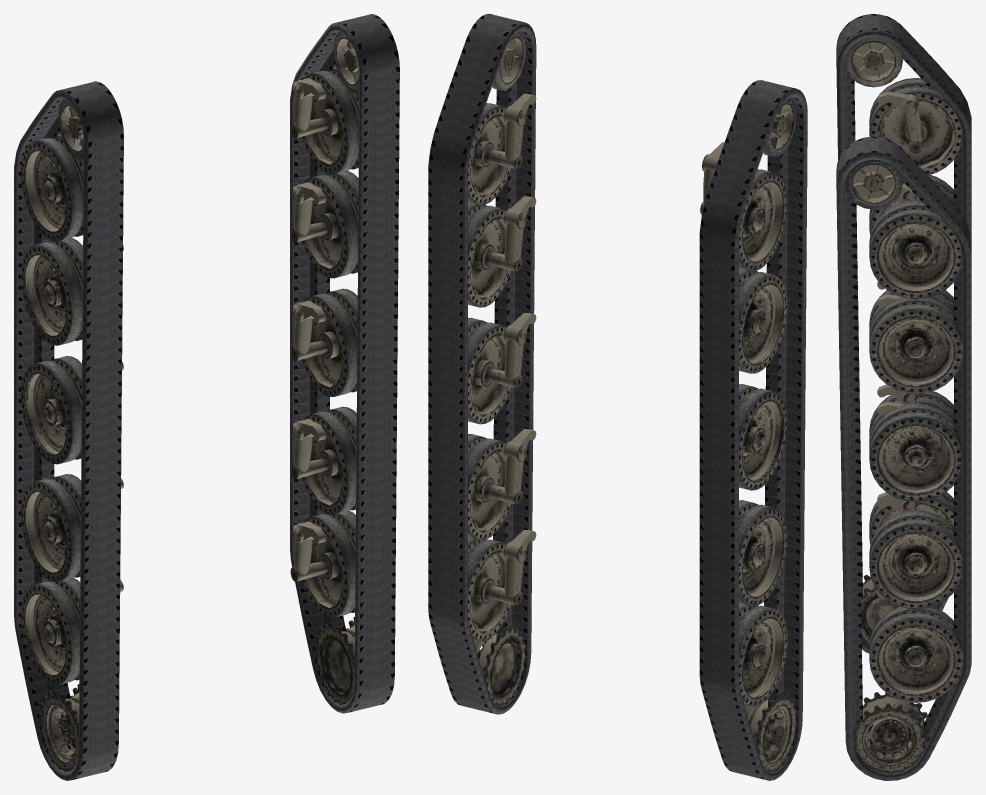
Rendered from Chassis.glb.
The picture shows the model from 3 angles, left to right: view 1: azimuth 30°, elevation 25°; view 2: azimuth 150°, elevation 25°; view 3: azimuth 270°, elevation 25°; orthographic projection. The views are drawn at different scales.
Parts seen in each view (by area): view 1: set_0_group_0, set_1_group_0, set_3_group_0, set_2_group_0; view 2: set_0_group_0, set_1_group_0, set_3_group_0, set_2_group_0; view 3: set_3_group_0, set_1_group_0, set_2_group_0, set_0_group_0.
Boxes of the visible parts, <box> form: set_0_group_0: <box>14,81,123,780</box>; set_1_group_0: <box>290,14,399,713</box>; set_3_group_0: <box>290,32,359,704</box>; set_2_group_0: <box>21,99,123,771</box>; set_0_group_0: <box>699,80,807,780</box>; set_1_group_0: <box>428,14,536,714</box>; set_3_group_0: <box>468,31,536,705</box>; set_2_group_0: <box>700,97,796,771</box>; set_3_group_0: <box>845,159,963,772</box>; set_1_group_0: <box>836,136,971,780</box>; set_2_group_0: <box>845,37,963,644</box>; set_0_group_0: <box>836,14,971,653</box>.
Bounding box in the file's own units: 2.85 × 5.98 × 1.16.
4 materials, 4 textured.
